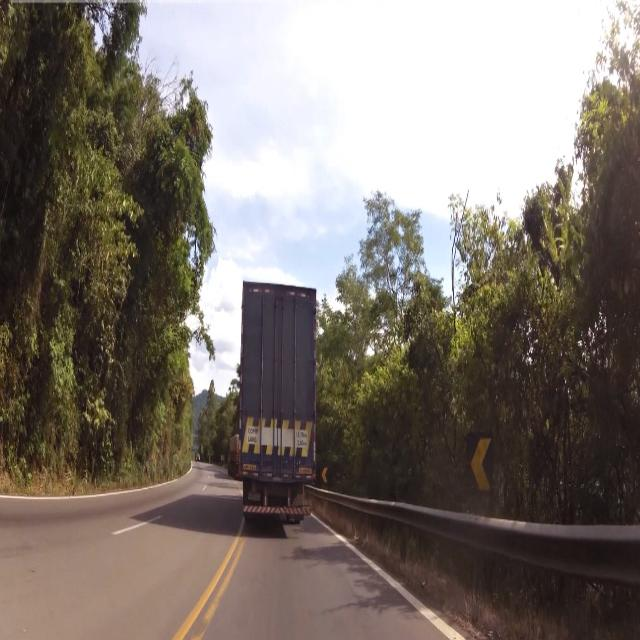Del: (462, 430, 492, 492), (321, 462, 330, 489)
